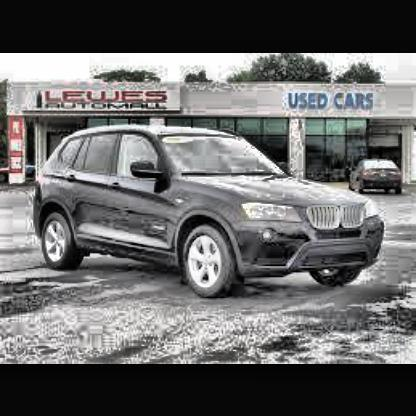BMW X3 SUV 2012: (35, 126, 388, 305)
